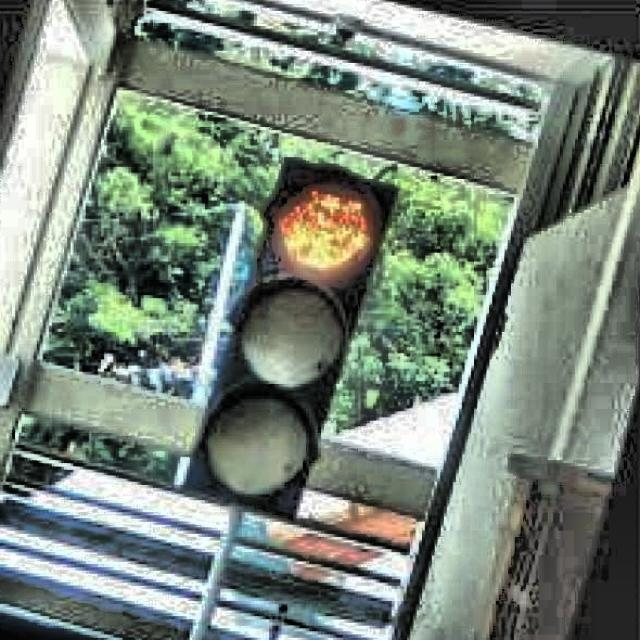red: (182, 173, 395, 497)
